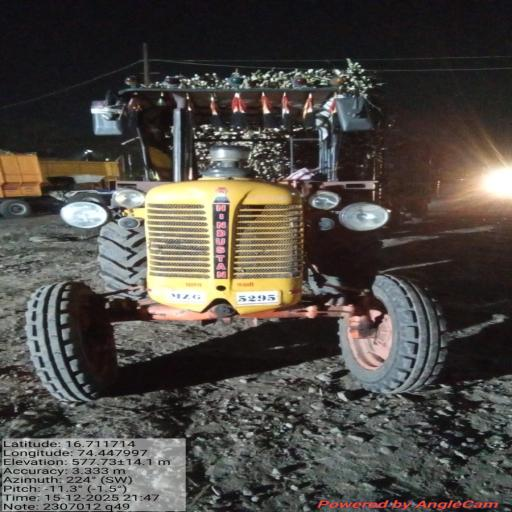number_plate: (237, 291, 279, 305), (168, 290, 205, 303)
